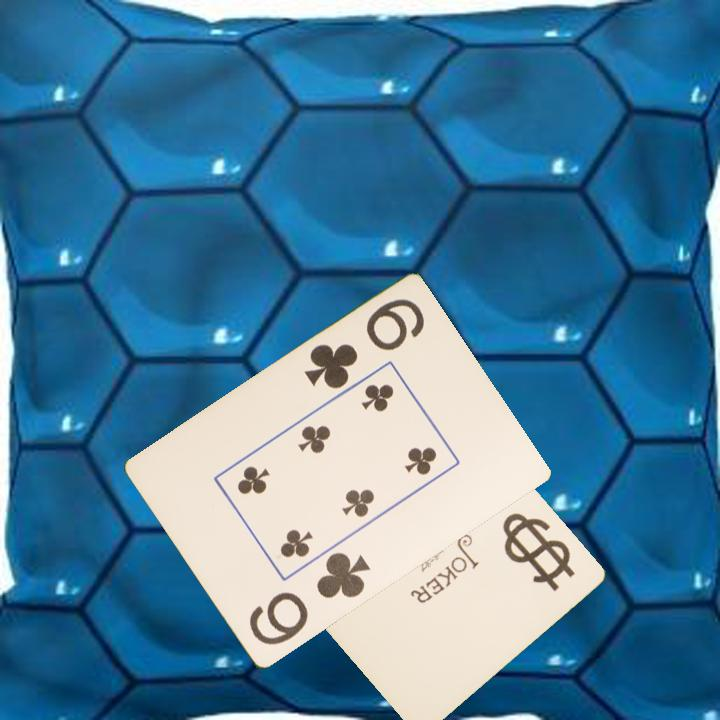6c: (245, 549, 373, 649), (300, 295, 428, 393)
JK: (505, 514, 569, 579)
